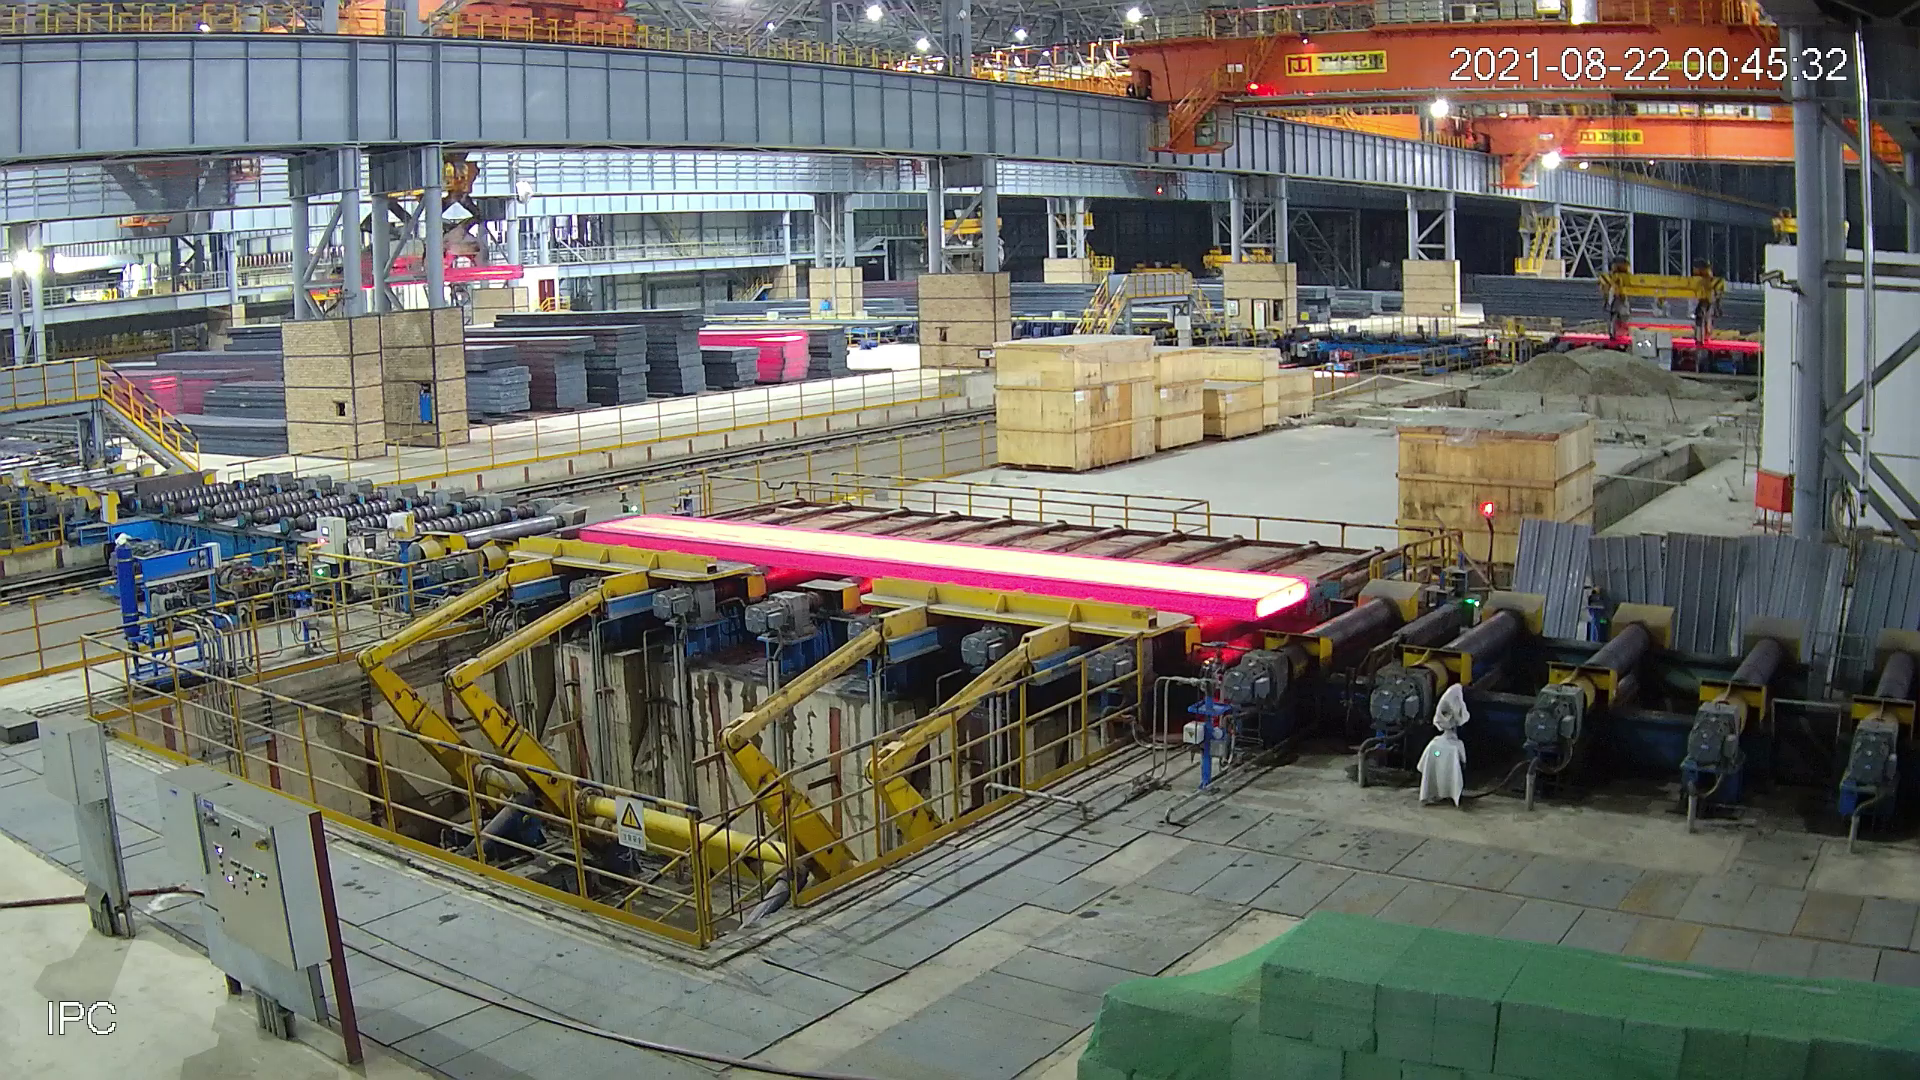slab: (756, 748, 1427, 827)
